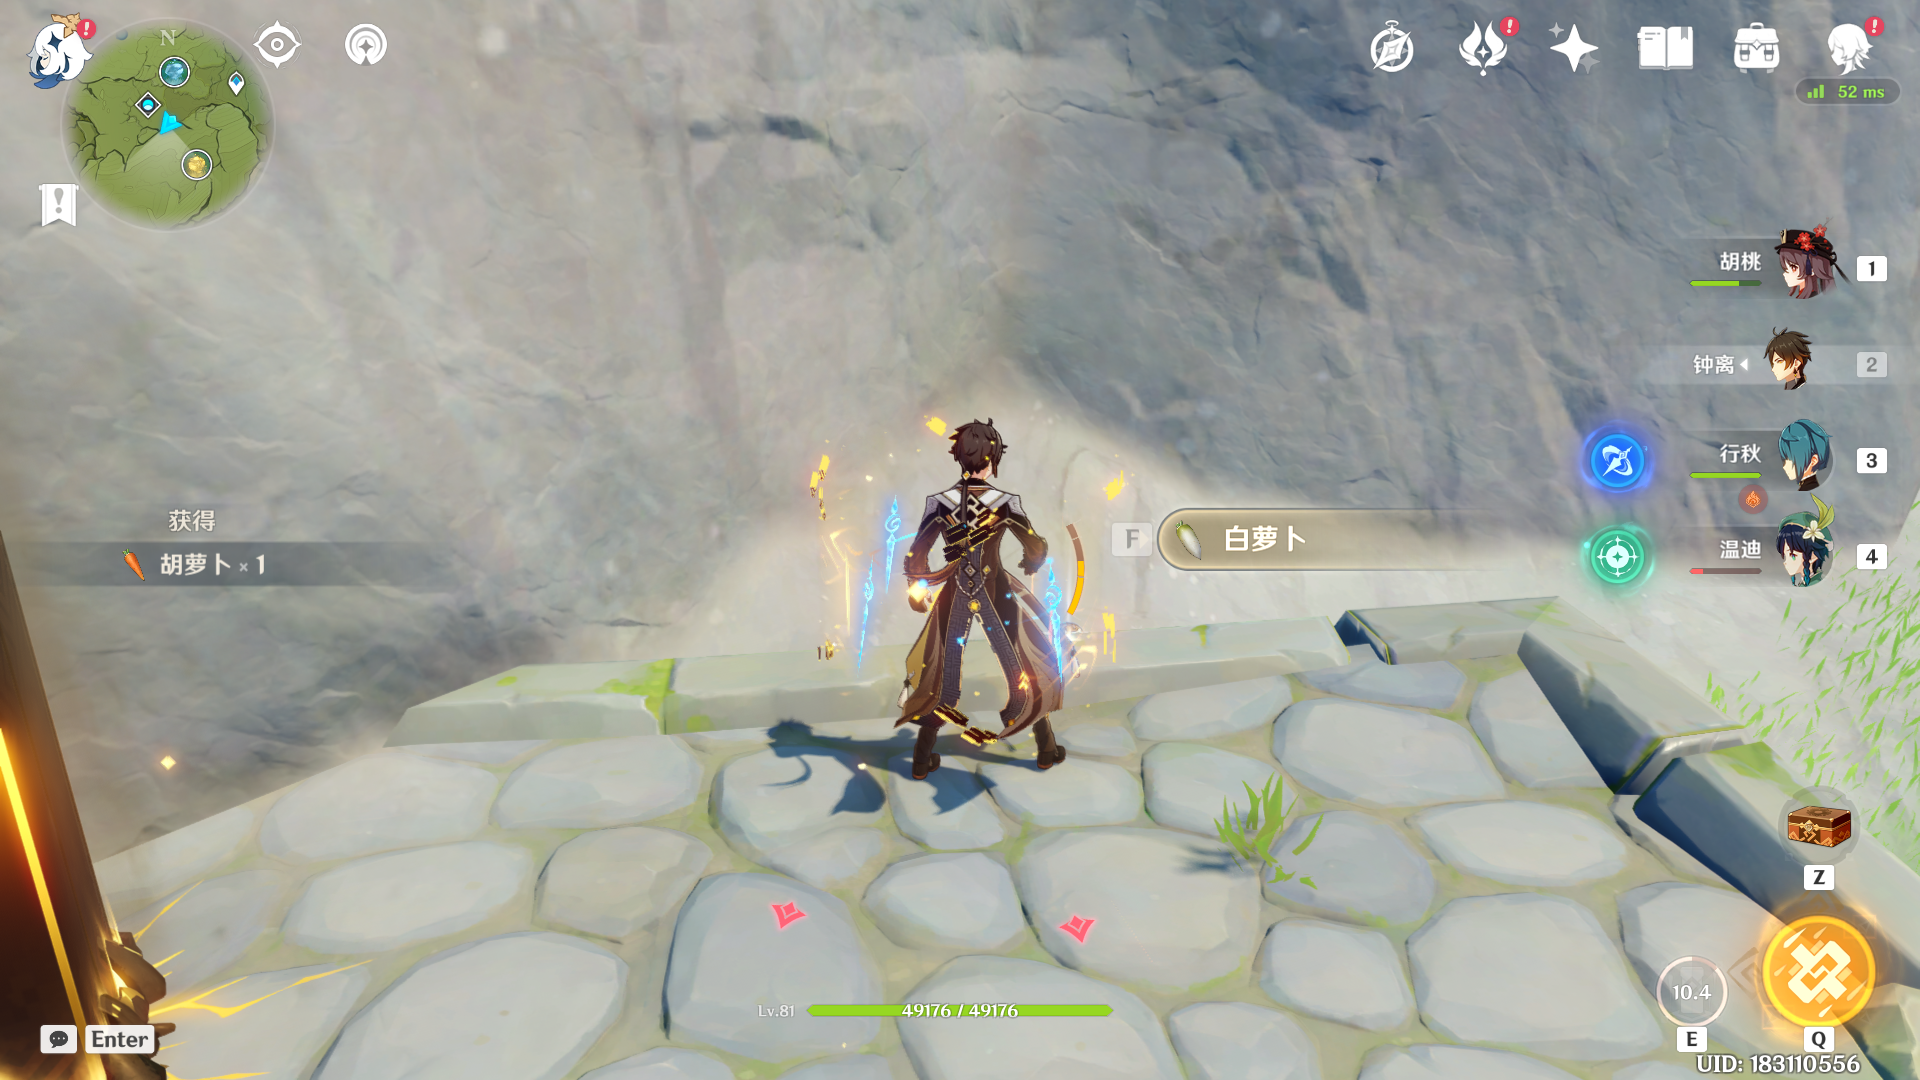character: (837, 396, 1087, 800)
